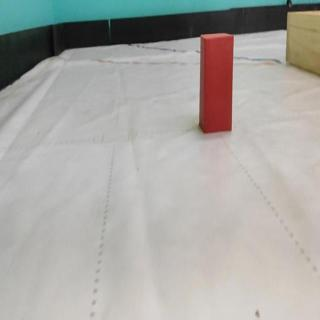redbox: (197, 31, 235, 134)
